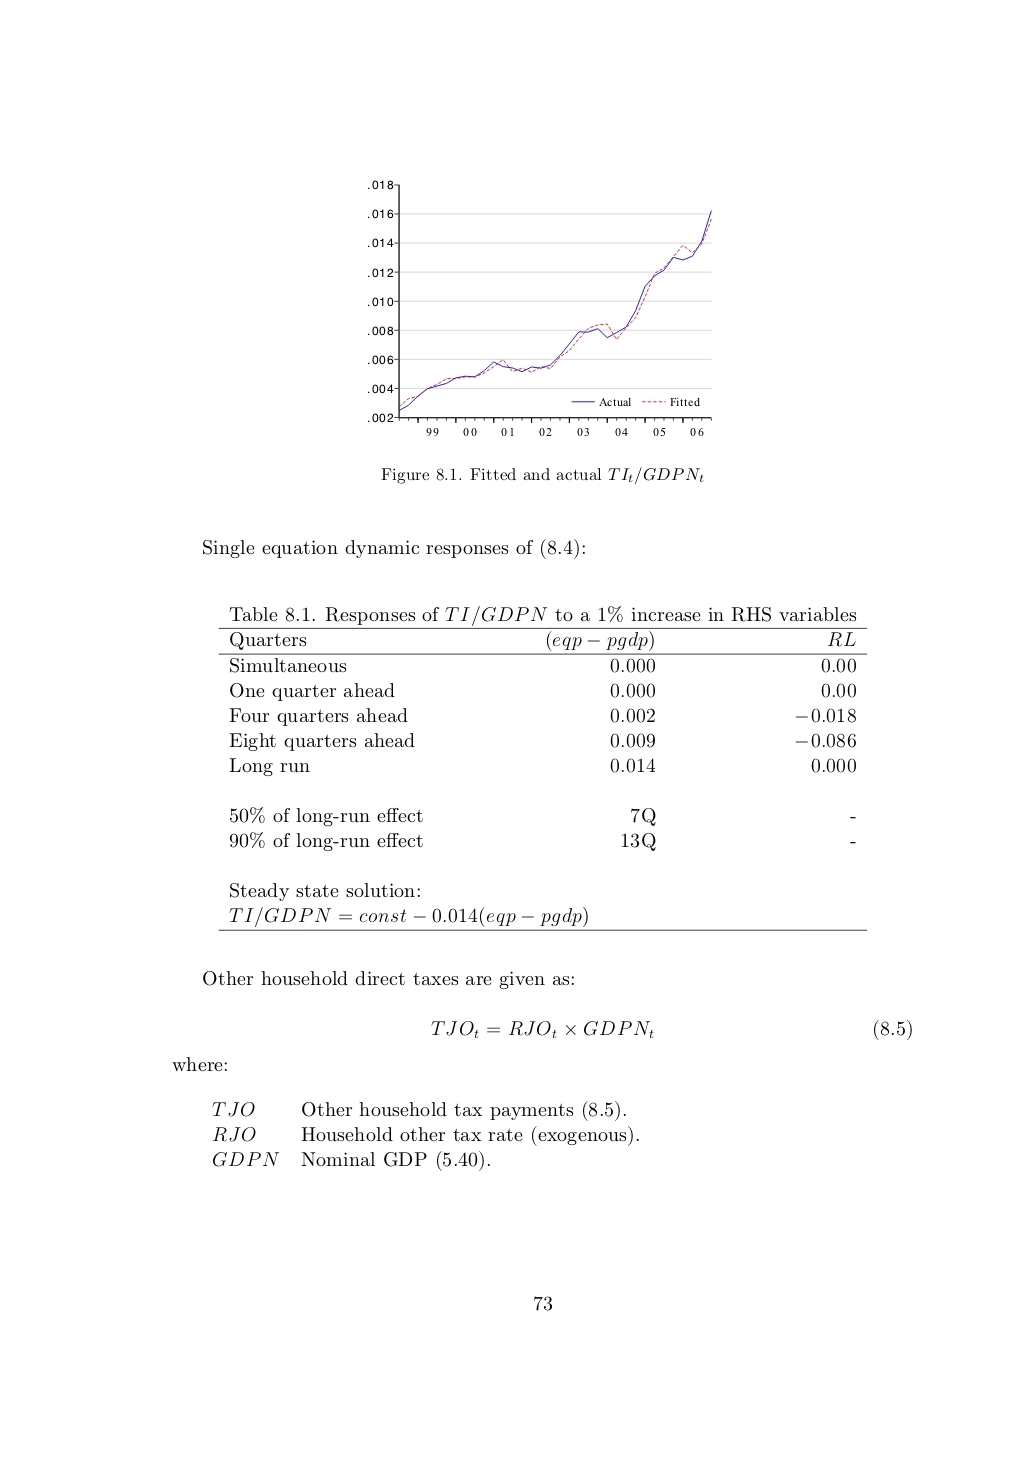Table: (218, 606, 867, 930)
figure: (367, 179, 711, 423)
formula: (431, 1020, 911, 1039)
